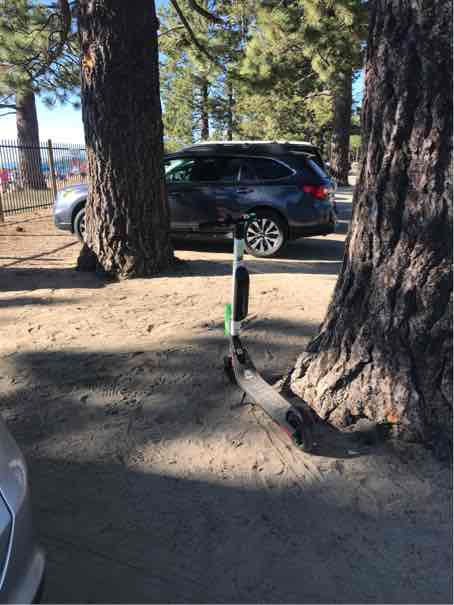scooter: (182, 189, 324, 475)
